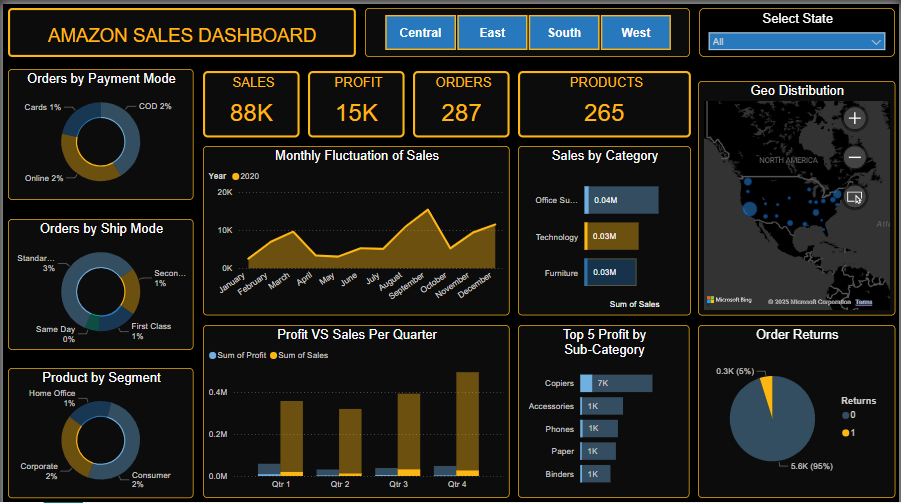

What the dashboard file says about the page in this screenshot:
{"tool":"powerbi","page":{"name":"Page 1","canvas":[1280,720],"ordinal":0},"visuals":[{"type":"clusteredBarChart","title":"Sales by Category","fields":{"Category":["Sheet1.Category"],"Y":["Sum(Sheet1.Sales)"]},"box":[735,203.3,246.7,241.7],"z":0},{"type":"clusteredBarChart","title":"Top 5 Profit by Sub-Category","fields":{"Y":["Sum(Sheet1.Profit)"],"Category":["Sheet1.Sub-Category"]},"box":[735,458.3,245,246.7],"z":1000},{"type":"donutChart","title":"Orders by Payment Mode","fields":{"Category":["Sheet1.Payment Mode"],"Y":["CountNonNull(Sheet1.Order ID)"]},"box":[6.7,93.3,265,186.7],"z":2000},{"type":"donutChart","title":"Orders by Ship Mode","fields":{"Y":["CountNonNull(Sheet1.Order ID)"],"Category":["Sheet1.Ship Mode"]},"box":[6.7,306.7,265,186.7],"z":3000},{"type":"donutChart","title":"Product by Segment","fields":{"Category":["Sheet1.Segment"],"Y":["CountNonNull(Sheet1.Product ID)"]},"box":[7.1,520.2,265,185.7],"z":4000},{"type":"map","title":"Geo Distribution","fields":{"Category":["Sheet1.State"],"Size":["Sum(Sheet1.Sales)"]},"box":[993.3,110,281.7,335],"z":5000},{"type":"pieChart","title":"Order Returns","fields":{"Category":["Sheet1.Returns"],"Y":["CountNonNull(Sheet1.Order ID)"]},"box":[993.3,458.3,281.7,246.7],"z":6000},{"type":"stackedAreaChart","title":"Monthly Fluctuation of Sales","fields":{"Category":["Sheet1.Order Date.Variation.Date Hierarchy.Month"],"Y":["Sum(Sheet1.Sales)"],"Series":["Sheet1.Order Date.Variation.Date Hierarchy.Year"]},"box":[285,203.3,438.3,241.7],"z":7000},{"type":"clusteredColumnChart","title":"Profit VS Sales Per Quarter","fields":{"Category":["Sheet1.Order Date.Variation.Date Hierarchy.Quarter"],"Y":["Sum(Sheet1.Profit)","Sum(Sheet1.Sales)"]},"box":[285,458.3,438.3,246.7],"z":8000},{"type":"slicer","fields":{"Values":["Sheet1.Region"]},"box":[517.1,5.7,464.3,70],"z":9000},{"type":"slicer","title":"Select State","fields":{"Values":["Sheet1.State"]},"box":[994,5.3,280,70],"z":10000},{"type":"card","title":"SALES","fields":{"Values":["Sum(Sheet1.Sales)"]},"box":[285,95,138.3,95],"z":11000},{"type":"card","title":"PROFIT","fields":{"Values":["Sum(Sheet1.Profit)"]},"box":[435,95,138.3,95],"z":12000},{"type":"card","title":"ORDERS","fields":{"Values":["CountNonNull(Sheet1.Order ID)"]},"box":[585,95,138.3,95],"z":13000},{"type":"card","title":"PRODUCTS","fields":{"Values":["Count(Sheet1.Product ID)"]},"box":[735,95,246.7,95],"z":14000},{"type":"textbox","box":[7.1,5.7,497.1,70],"z":15000}]}

Visuals, with their boxes in screenshot pixels (x1, y1, x2, y2), scaled from the page's 1280x720 canvas onto the 901x503 screenshot:
"Sales by Category" clusteredBarChart: (517,142,691,311)
"Top 5 Profit by Sub-Category" clusteredBarChart: (517,320,690,493)
"Orders by Payment Mode" donutChart: (5,65,191,196)
"Orders by Ship Mode" donutChart: (5,214,191,345)
"Product by Segment" donutChart: (5,363,192,493)
"Geo Distribution" map: (699,77,897,311)
"Order Returns" pieChart: (699,320,897,493)
"Monthly Fluctuation of Sales" stackedAreaChart: (201,142,509,311)
"Profit VS Sales Per Quarter" clusteredColumnChart: (201,320,509,493)
slicer - Sheet1.Region: (364,4,691,53)
"Select State" slicer: (700,4,897,53)
"SALES" card: (201,66,298,133)
"PROFIT" card: (306,66,404,133)
"ORDERS" card: (412,66,509,133)
"PRODUCTS" card: (517,66,691,133)
textbox: (5,4,355,53)
